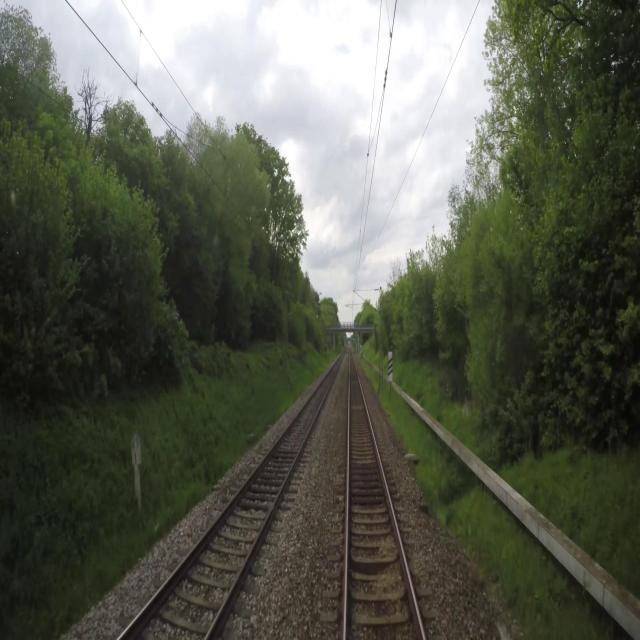rail-track: (123, 363, 337, 639), (348, 355, 422, 639)
